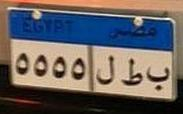5: (31, 51, 49, 78), (71, 54, 87, 83), (13, 51, 30, 78), (50, 55, 68, 80)
Taa: (120, 56, 143, 90)
baa: (146, 62, 170, 92)
laam: (95, 52, 116, 88)
